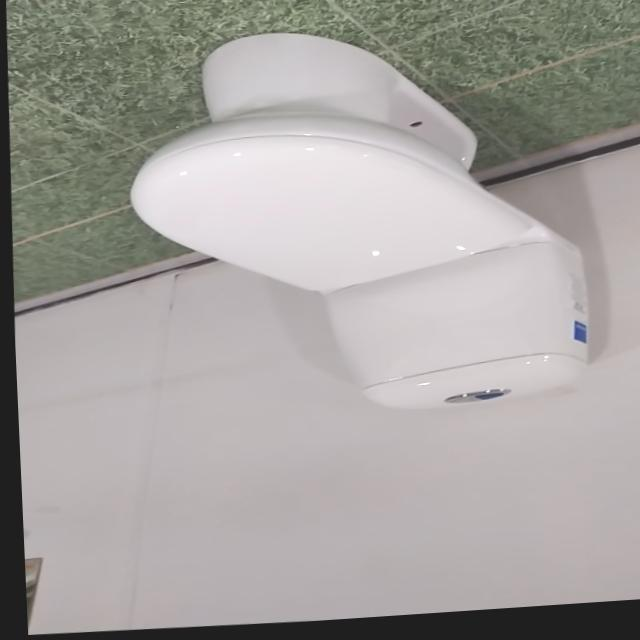toilet: (117, 18, 594, 434)
